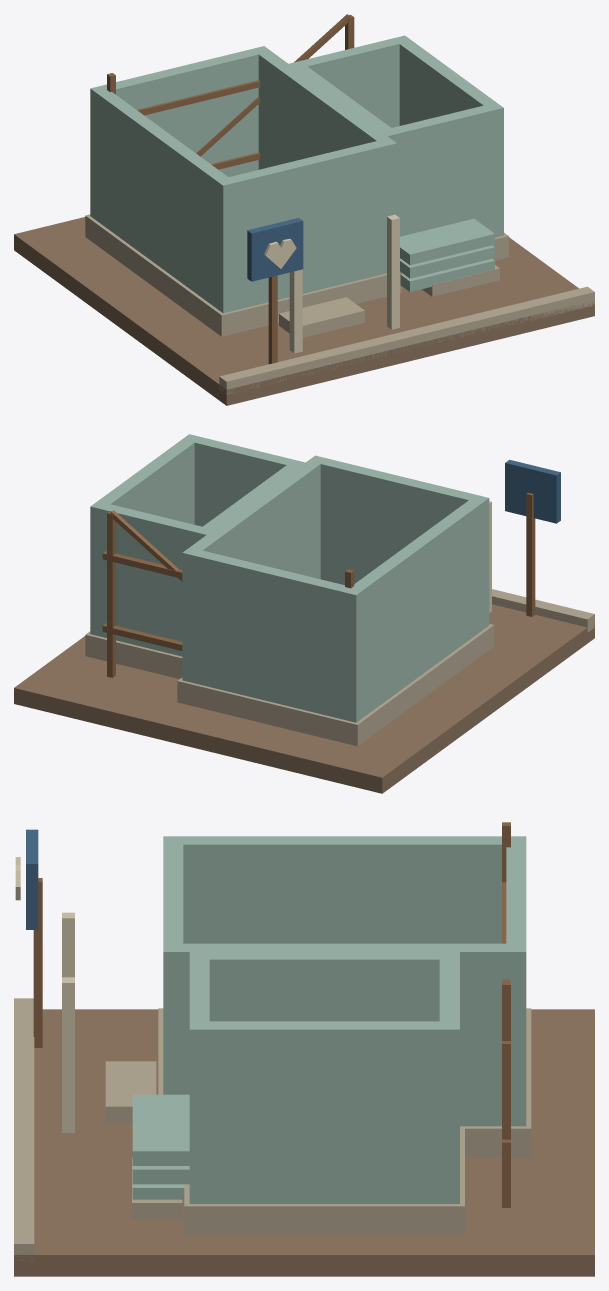
The model's file is hospital-seabreeze-half-built.glb.
3 views of the same model, one above another, from view 1: azimuth 30°, elevation 25°; view 2: azimuth 150°, elevation 25°; view 3: azimuth 270°, elevation 25° (orthographic). The views are drawn at different scales.
Visible parts, largest first — view 1: hospital; view 2: hospital; view 3: hospital.
Part boxes in pixels (left/top/right/bottom): hospital: left=14, top=14, right=594, bottom=405; hospital: left=14, top=434, right=594, bottom=793; hospital: left=14, top=822, right=594, bottom=1276.
Size of the model in its own units: 2.88 by 1.38 by 2.88.
